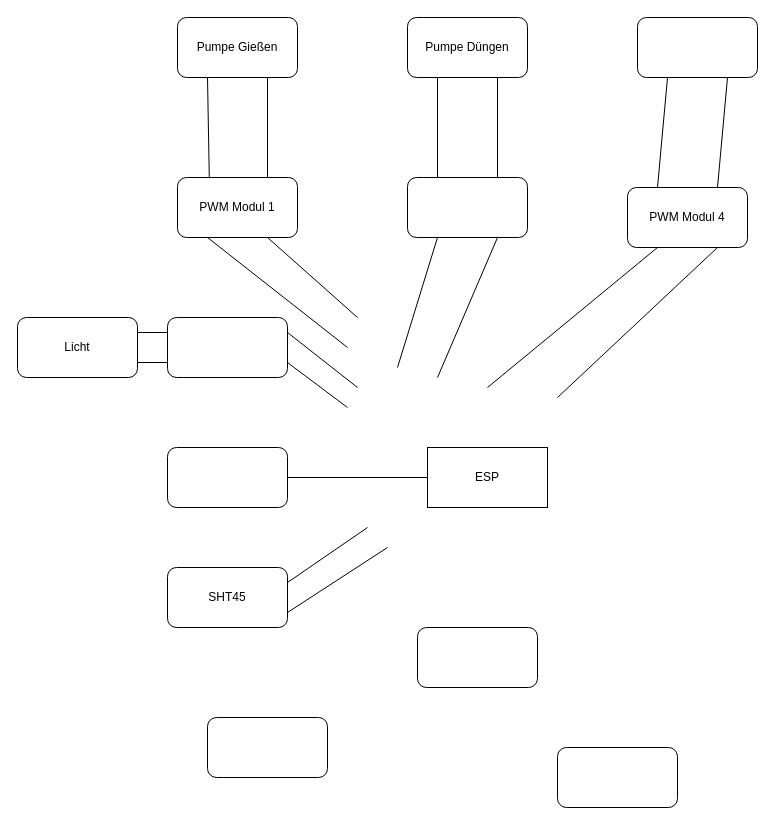
The diagram is 775 pixels wide and 825 high, and some of its shapes have lost their labels. The shapes that lost their labels are listed below. From the top down, each one's centre as x and y in pixels, then its label:
point (697, 47): Lüfter
point (467, 207): PWM Modul 3
point (227, 347): PWM Modul 2
point (227, 477): Neopixel
